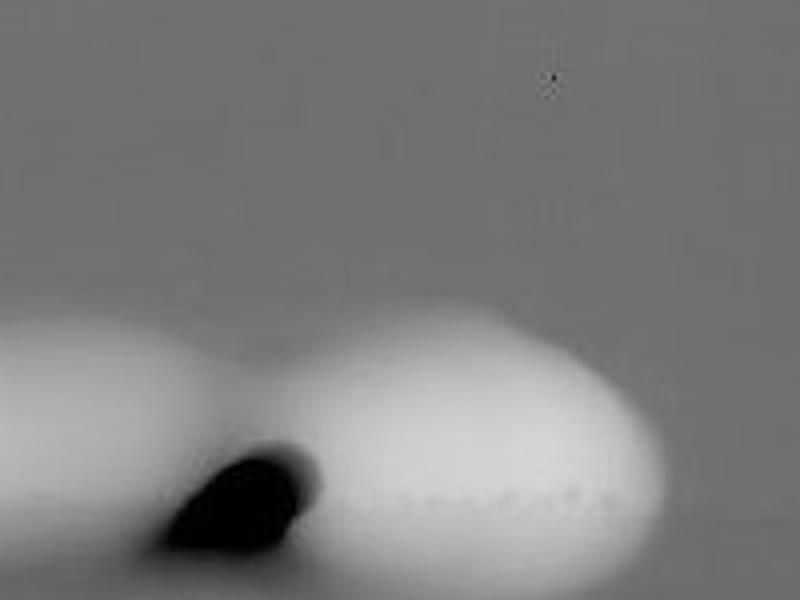defect: (163, 455, 301, 555), (547, 71, 561, 85)
